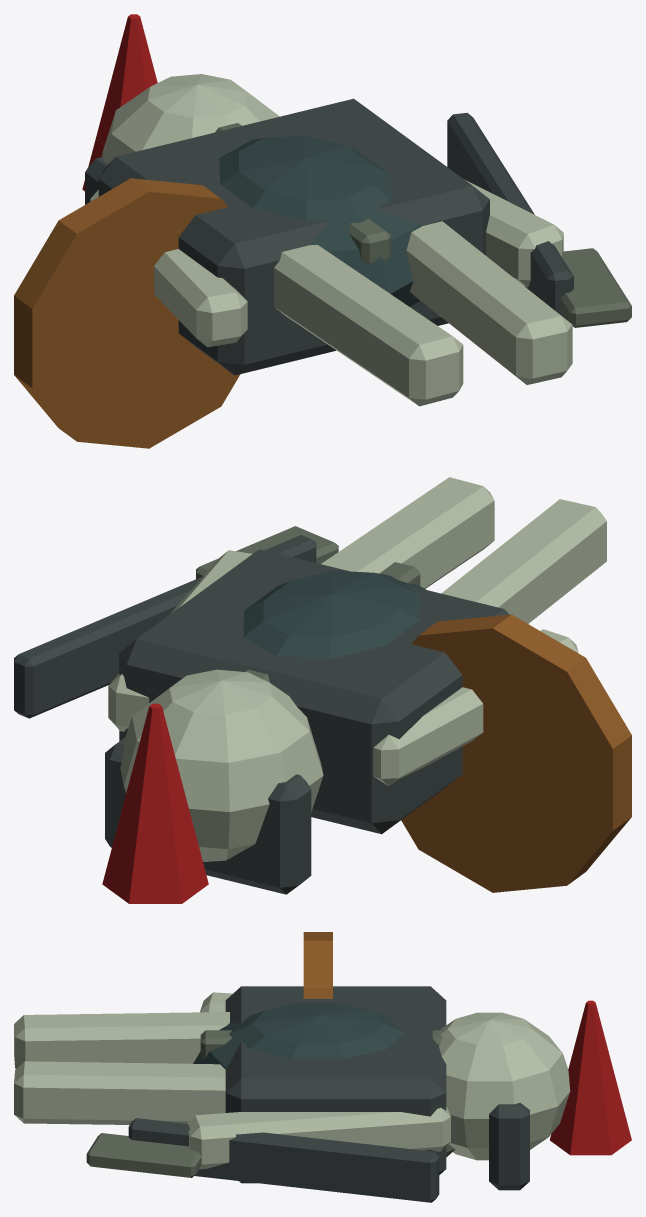
Rendered from GraveboneCaptain.glb.
3 renders of one model, top to bottom at view 1: azimuth 30°, elevation 25°; view 2: azimuth 150°, elevation 25°; view 3: azimuth 270°, elevation 25°, orthographic. The views are drawn at different scales.
Parts seen in each view (by area): view 1: Shield, CaptainCuirass, LeftLeg, Body, RightLeg, Head, LeftArm, CaptainBlade, RightArm, BladeEdge, HelmCrest, Spine (+1 smaller); view 2: Shield, CaptainCuirass, Head, HelmCrest, Body, LeftLeg, CaptainBlade, RightLeg, HelmBrow, LeftArm, RightArm, BladeEdge (+1 smaller); view 3: CaptainCuirass, Head, CaptainBlade, RightLeg, LeftLeg, RightArm, Body, HelmCrest, BladeEdge, HelmBrow, Shield, Spine (+1 smaller).
Part boxes in pixels (x1,y1,x2,y2): Shield: (14,178,240,448); CaptainCuirass: (98,98,489,375); LeftLeg: (274,244,463,406); Body: (219,135,421,306); RightLeg: (406,221,572,384); Head: (102,74,279,164); LeftArm: (90,190,247,347); CaptainBlade: (447,112,573,320); RightArm: (464,179,563,287); BladeEdge: (560,248,631,327); HelmCrest: (82,14,157,191); Spine: (215,123,391,264); Shield: (401,614,631,892); CaptainCuirass: (119,549,508,834); Head: (120,669,323,861); HelmCrest: (102,703,208,903); Body: (243,570,426,658); LeftLeg: (441,499,606,623); CaptainBlade: (14,535,316,718); RightLeg: (321,477,494,588); HelmBrow: (105,737,311,894); LeftArm: (373,629,578,785); RightArm: (108,550,252,731); BladeEdge: (196,526,338,578); CaptainCuirass: (225,986,446,1183); Head: (438,1012,570,1160); CaptainBlade: (128,1118,439,1202); RightLeg: (14,1061,225,1124); LeftLeg: (14,1012,229,1068); RightArm: (187,1106,450,1169); Body: (193,1003,403,1069); HelmCrest: (550,1000,631,1155); BladeEdge: (86,1133,201,1177); HelmBrow: (489,1103,529,1190); Shield: (303,932,332,998); Spine: (200,1030,442,1059).
Bounding box in the file's own units: 4.88 × 2.32 × 6.3.
Materials: 1 (1 with a texture image).
